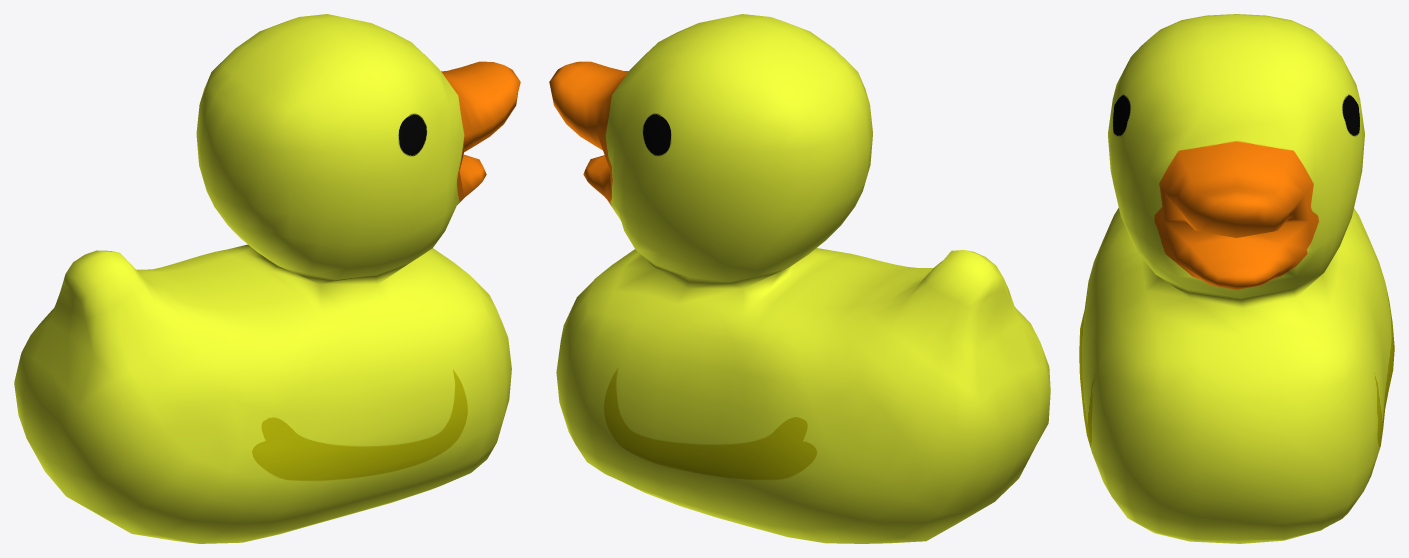
Rendered from RubberDucky.fbx.
3 views of the same model, side by side, from view 1: azimuth 30°, elevation 25°; view 2: azimuth 150°, elevation 25°; view 3: azimuth 270°, elevation 25° (orthographic). The views are drawn at different scales.
Parts seen in each view (by area): view 1: RubberDuck; view 2: RubberDuck; view 3: RubberDuck.
Boxes of the visible parts, box(x1,y1,x2,y2) form: RubberDuck: box(14, 14, 520, 543); RubberDuck: box(549, 14, 1050, 543); RubberDuck: box(1079, 14, 1394, 543).
Size of the model in its own units: 1.8 by 1.7 by 1.
1 material, 1 textured.
